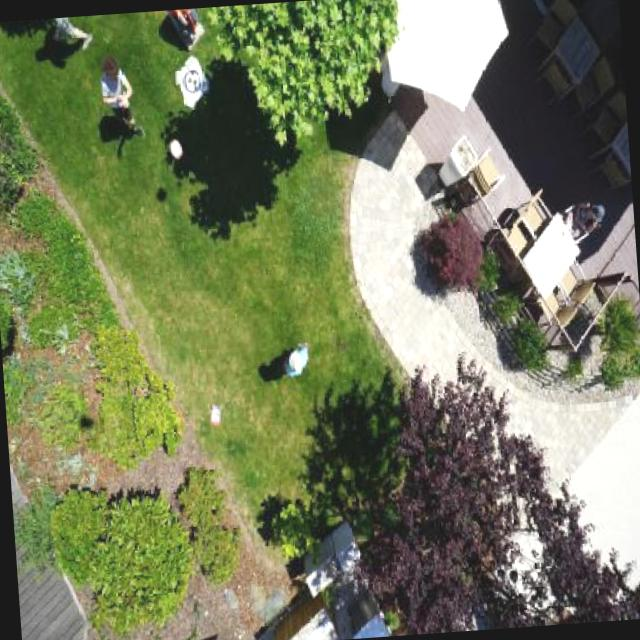Person: (90, 48, 152, 148), (280, 331, 320, 384)
